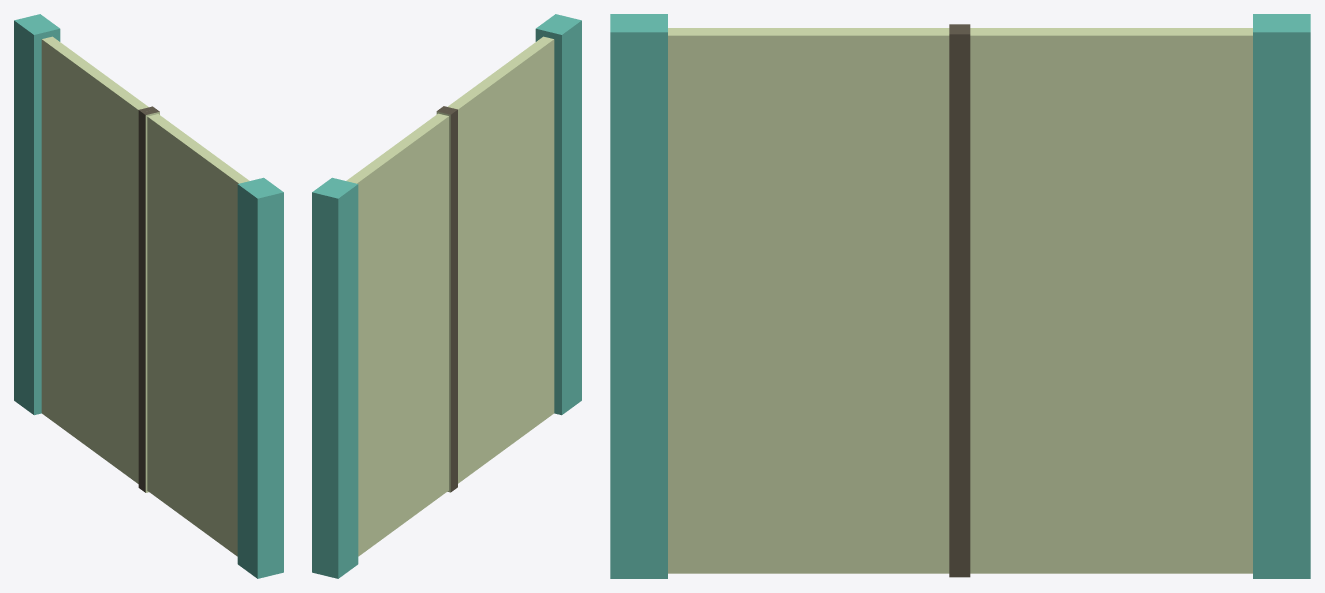
File: vrata.fbx
3 views of the same model, side by side, from view 1: azimuth 30°, elevation 25°; view 2: azimuth 150°, elevation 25°; view 3: azimuth 270°, elevation 25° (orthographic). The views are drawn at different scales.
Visible parts, largest first — view 1: Cube.004, Cube.003, Cube.001, Cube.002; view 2: Cube.003, Cube.004, Cube.002, Cube.001; view 3: Cube.004, Cube.003, Cube.001, Cube.002.
Part boxes in pixels (left/top/right/bottom): Cube.004: left=41, top=36, right=155, bottom=489; Cube.003: left=142, top=109, right=249, bottom=556; Cube.001: left=237, top=177, right=283, bottom=578; Cube.002: left=14, top=14, right=60, bottom=415; Cube.003: left=440, top=36, right=554, bottom=489; Cube.004: left=346, top=108, right=454, bottom=556; Cube.002: left=312, top=177, right=358, bottom=578; Cube.001: left=535, top=14, right=581, bottom=415; Cube.004: left=959, top=24, right=1252, bottom=577; Cube.003: left=668, top=24, right=959, bottom=577; Cube.001: left=610, top=14, right=667, bottom=578; Cube.002: left=1253, top=14, right=1310, bottom=578.
Bounding box in the file's own units: 56.07 × 781 × 902.
